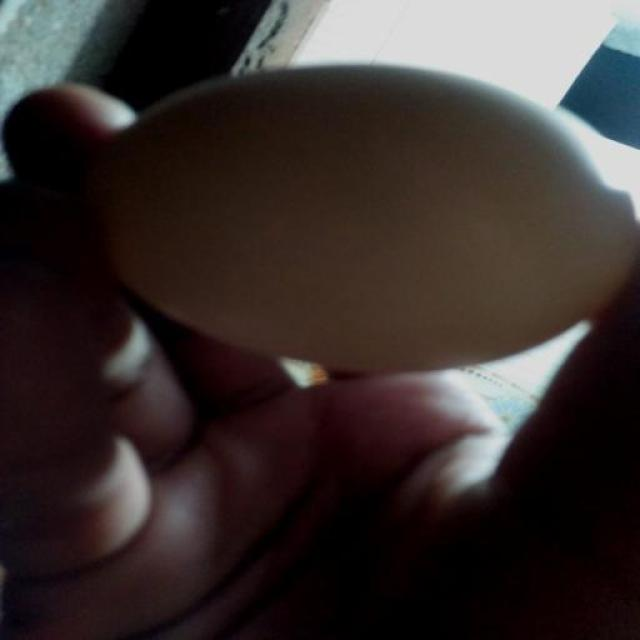telur: (72, 58, 640, 389)
